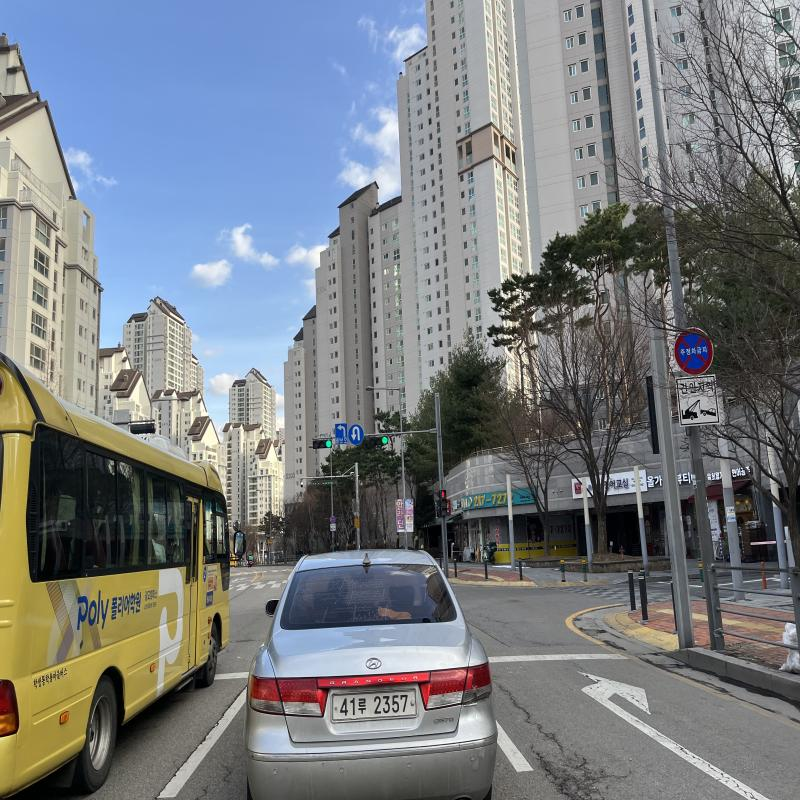green: (325, 440, 332, 448), (382, 437, 388, 444)
